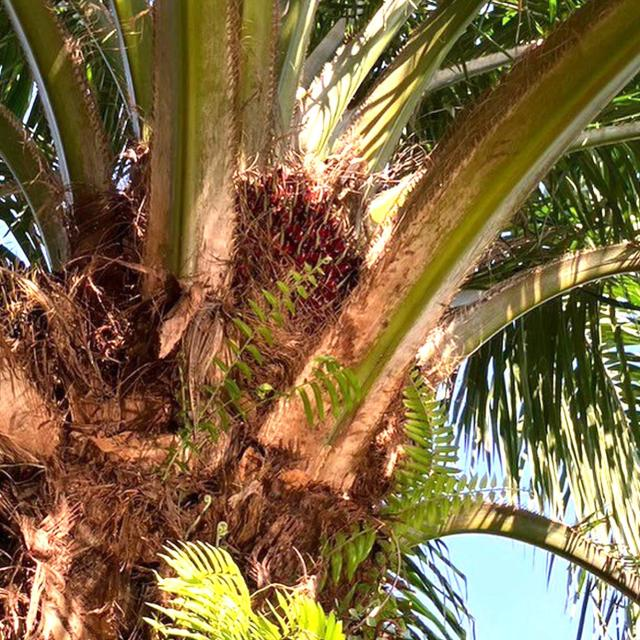ripe: (233, 158, 370, 332)
